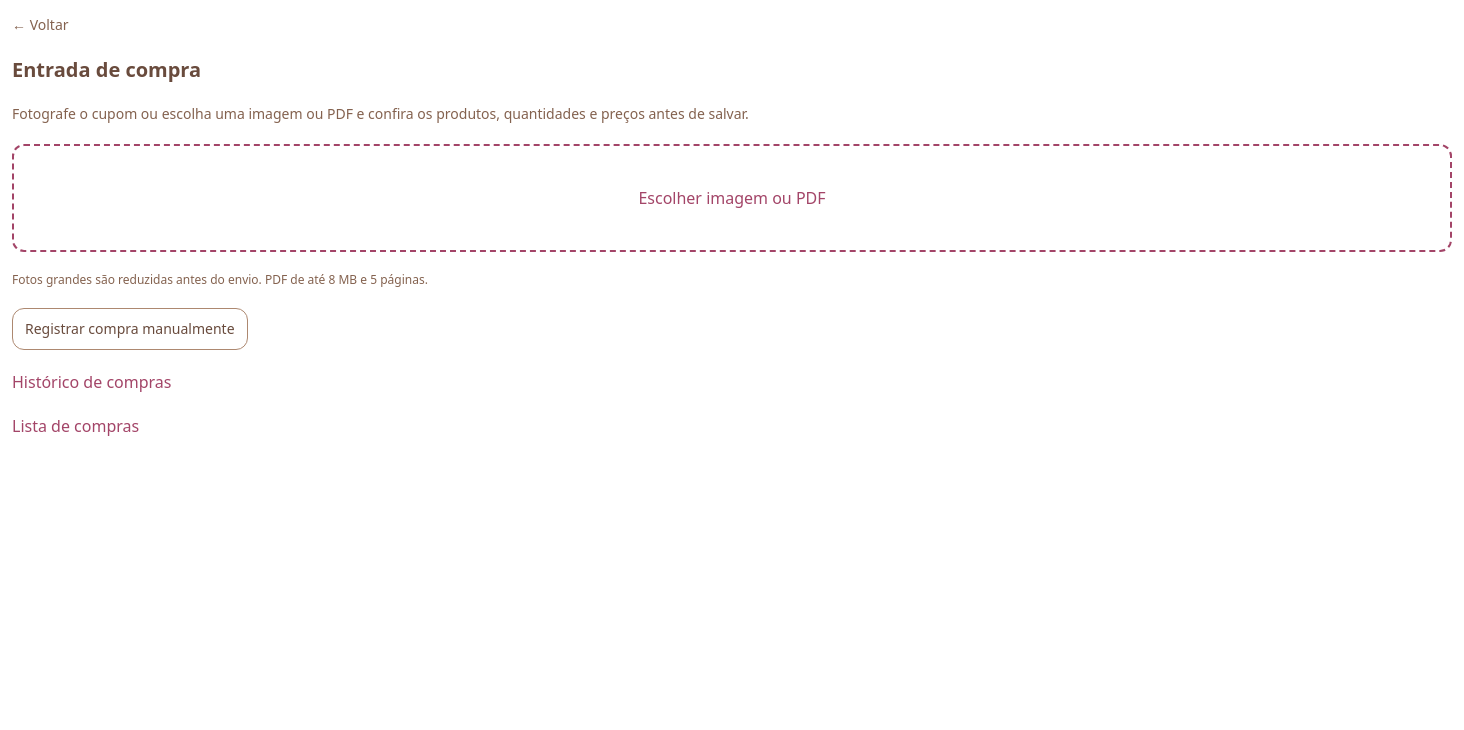
Scenario: compra simplificada › recalcula o total e o preço por unidade em qualquer direção
Click the button "Registrar compra manualmente" at [130, 329], box left=12, top=308, right=248, bottom=350
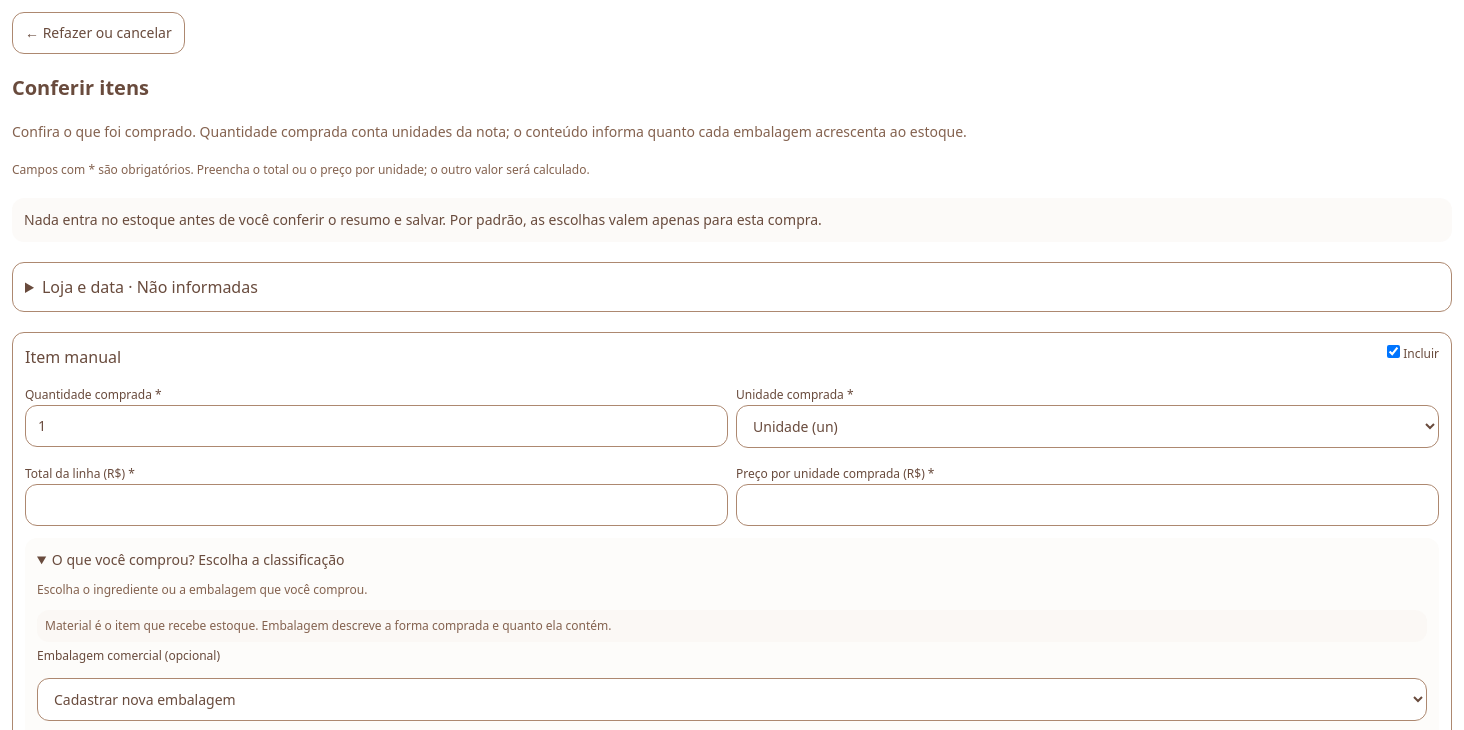
Select "Cobertura branca · Dr. Oetker · 1,01 kg" in the dropdown labelled "Embalagem comercial (opcional)" at [732, 700], box left=37, top=678, right=1427, bottom=721
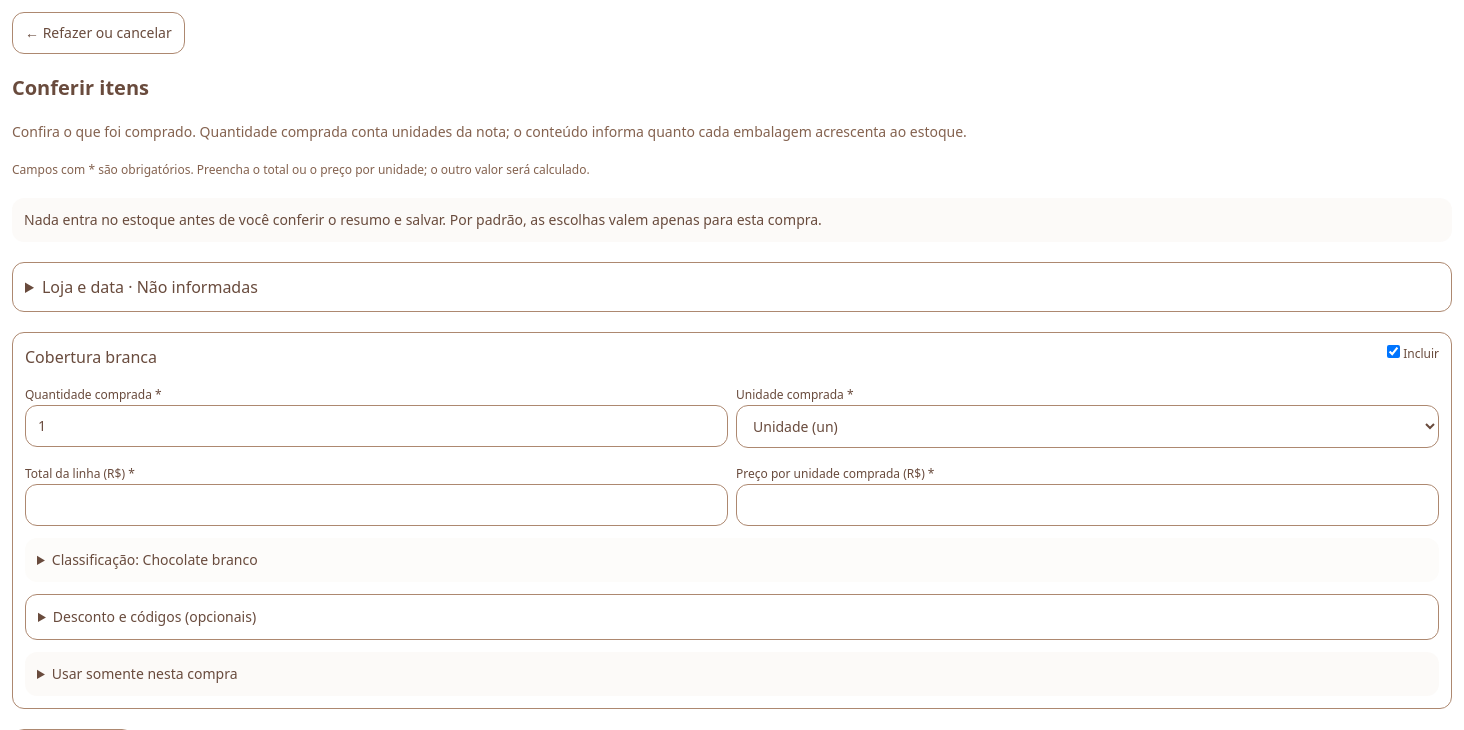
Replace the text in the field labelled "Quantidade comprada *" with "3" at [376, 426], box left=25, top=405, right=728, bottom=447
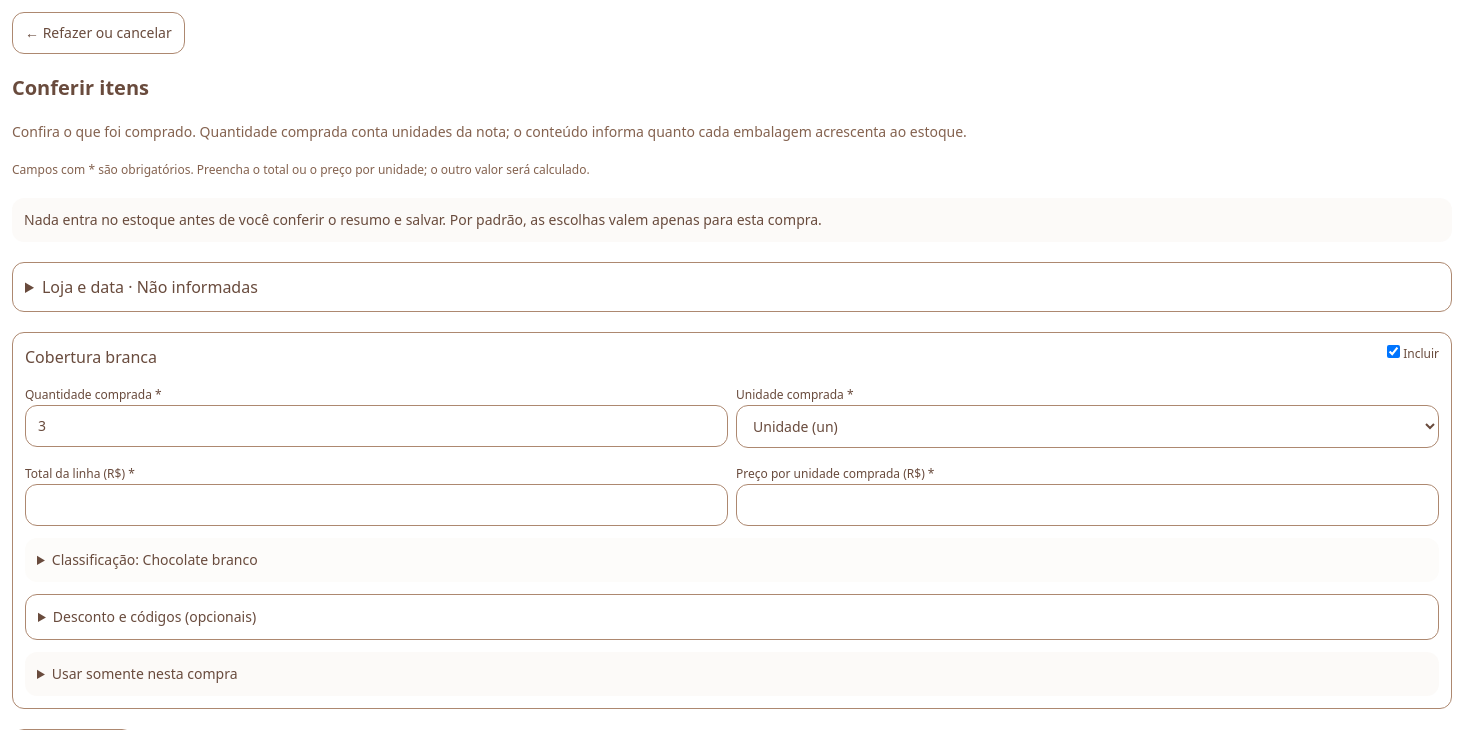
Type "4,25" into the field labelled "Preço por unidade comprada (R$) *" at [1088, 505], box left=736, top=484, right=1439, bottom=526
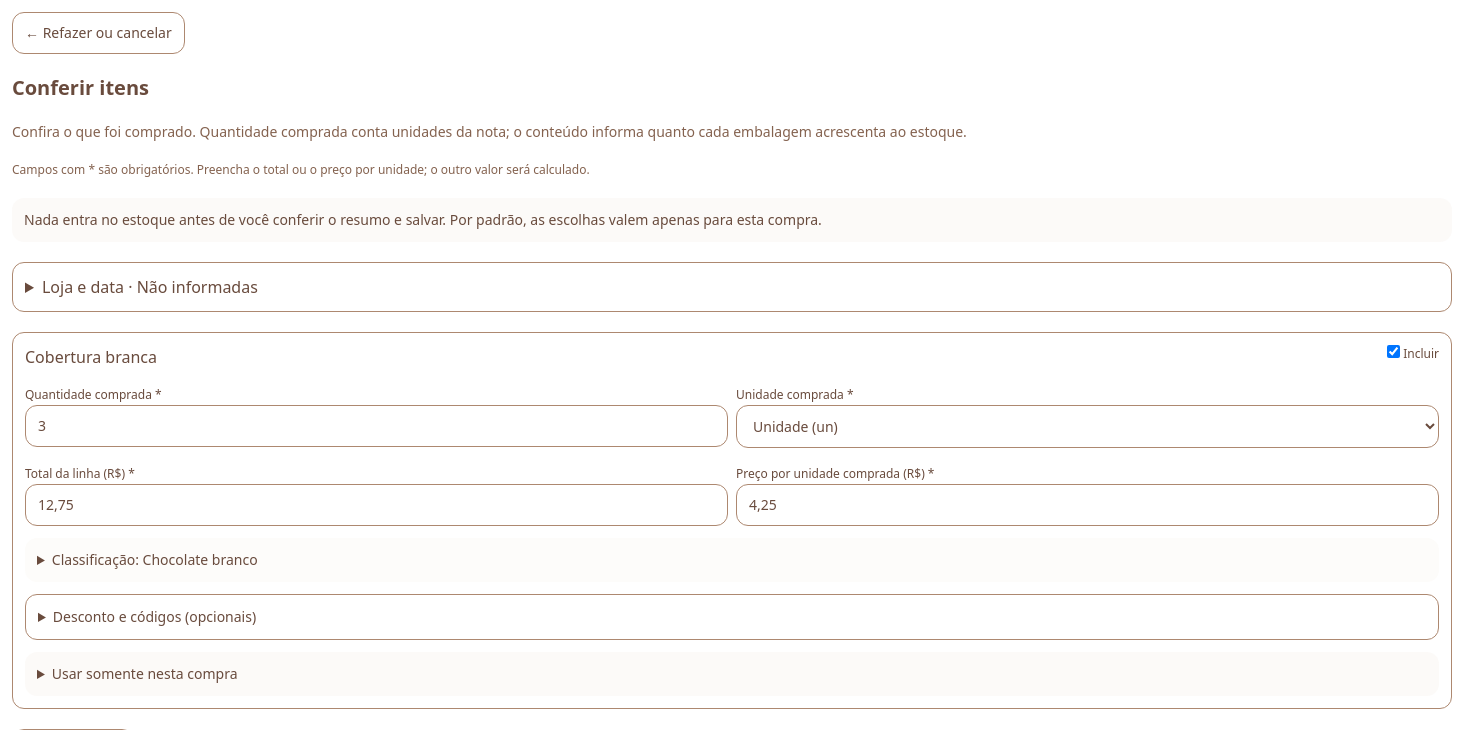
Expected: the field labelled "Total da linha (R$) *" holds "12,75"
Replace the text in the field labelled "Total da linha (R$) *" with "15,00" at [376, 505], box left=25, top=484, right=728, bottom=526
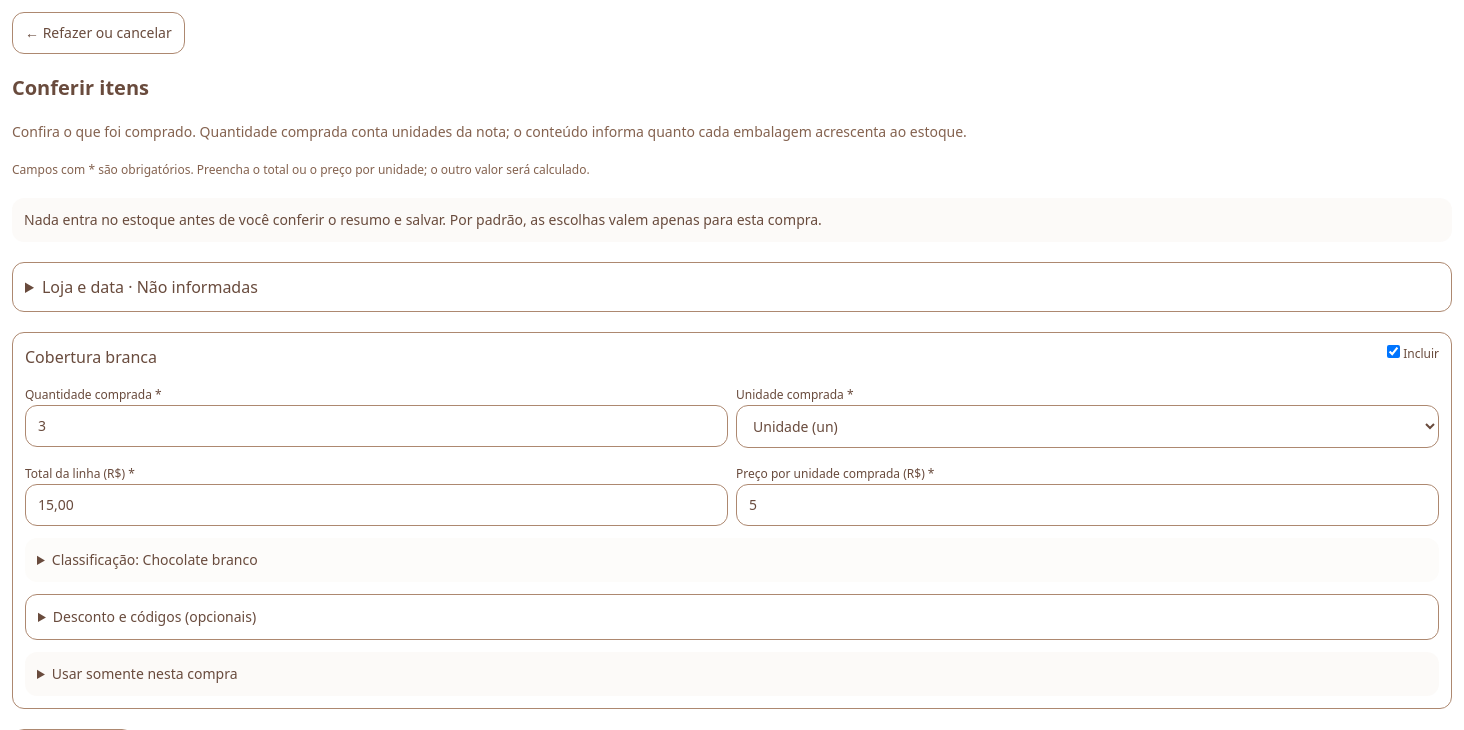
Expected: the field labelled "Preço por unidade comprada (R$) *" holds "5", left=736, top=484, right=1439, bottom=526
